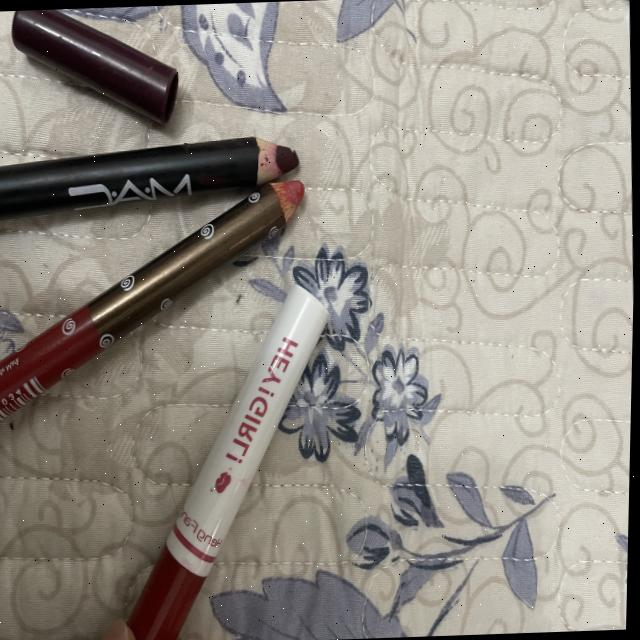lip liner: (0, 0, 319, 448)
lip stick: (88, 265, 350, 640)
